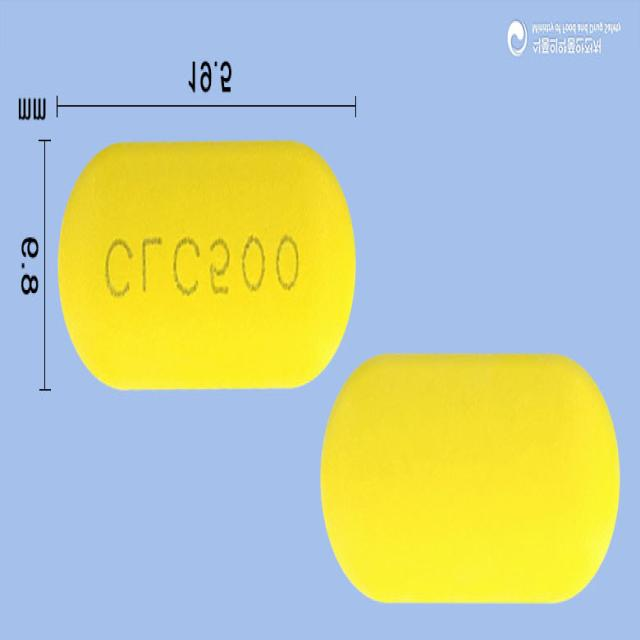CLARIUM: (57, 139, 357, 392), (319, 355, 620, 604)
